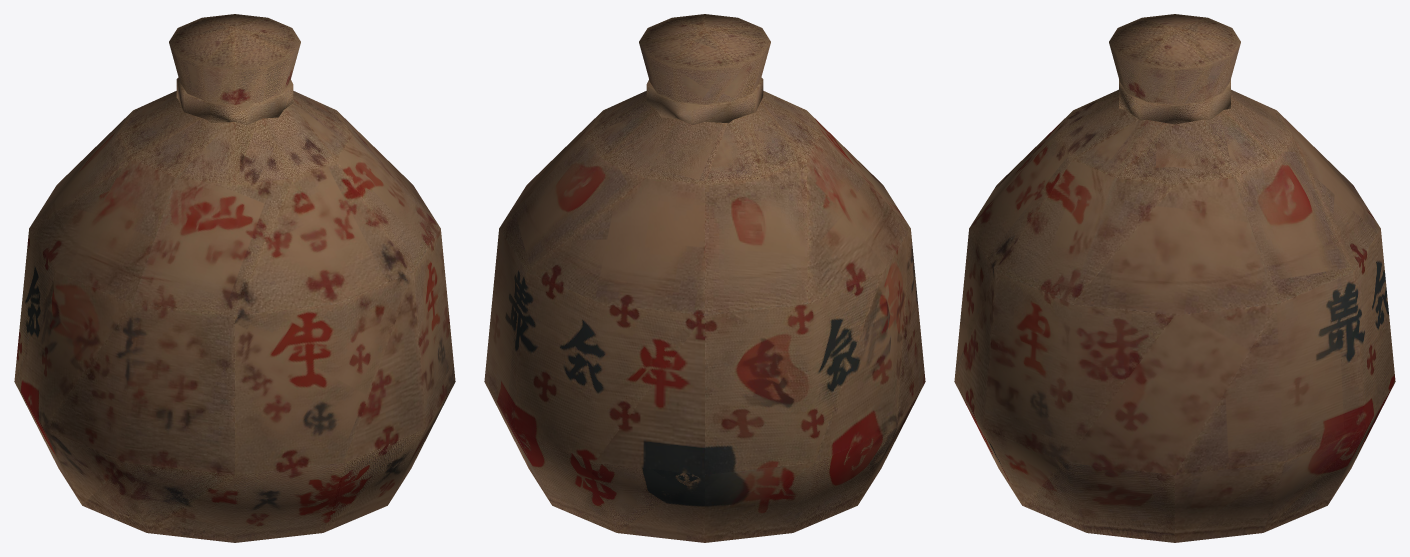
Rendered from sack_grain.glb.
3 renders of one model, left to right at view 1: azimuth 30°, elevation 25°; view 2: azimuth 150°, elevation 25°; view 3: azimuth 270°, elevation 25°, orthographic.
Visible parts, largest first — view 1: sack_grain; view 2: sack_grain; view 3: sack_grain.
Boxes of the visible parts, x1,y1,x2,y2 form: sack_grain: (14, 14, 455, 542); sack_grain: (484, 14, 925, 542); sack_grain: (954, 14, 1395, 542).
Size of the model in its own units: 0.6 by 0.68 by 0.6.
1 material, 1 textured.
